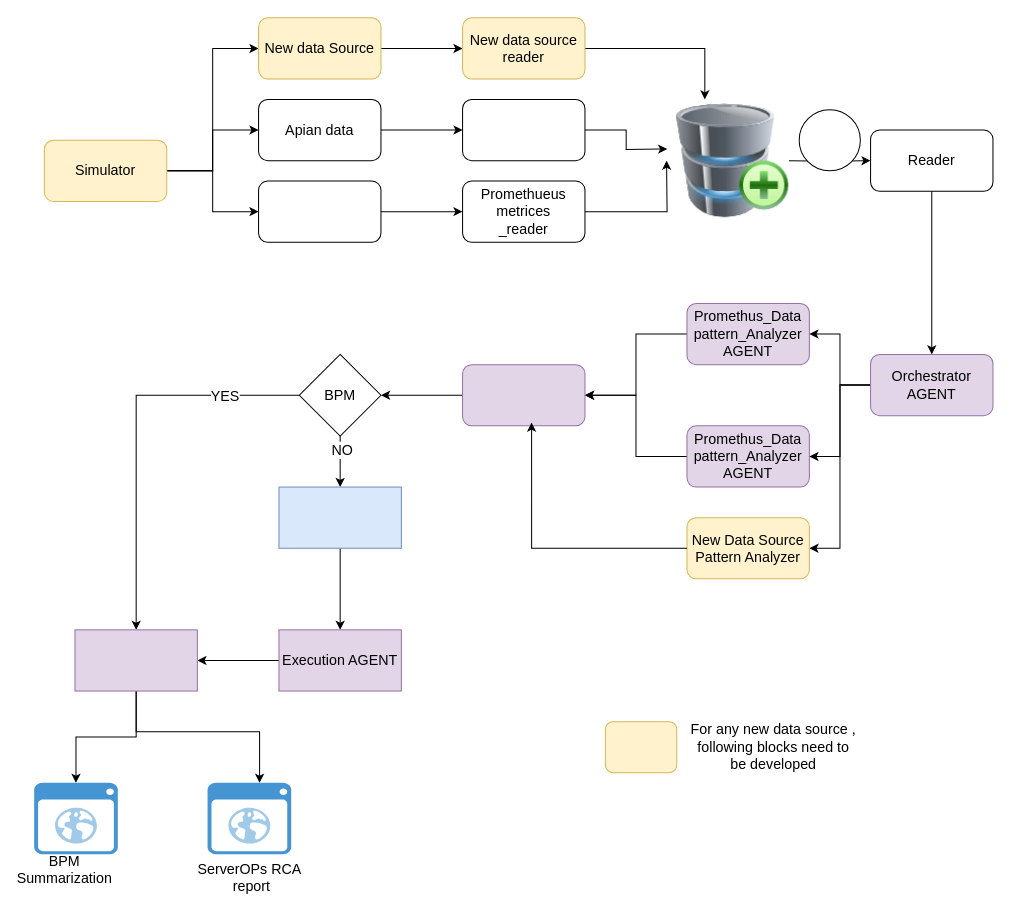
This 1011x914 diagram has some shape labels left out. Each missing label, with the box of its shape:
Apian Log Reader: (462, 98, 585, 161)
HITL: (278, 486, 401, 548)
Poll: (798, 109, 860, 171)
Prometheus Metrices data: (258, 180, 381, 242)
RCA AGENT: (462, 364, 585, 426)
Reporting AGENT: (74, 629, 197, 691)
